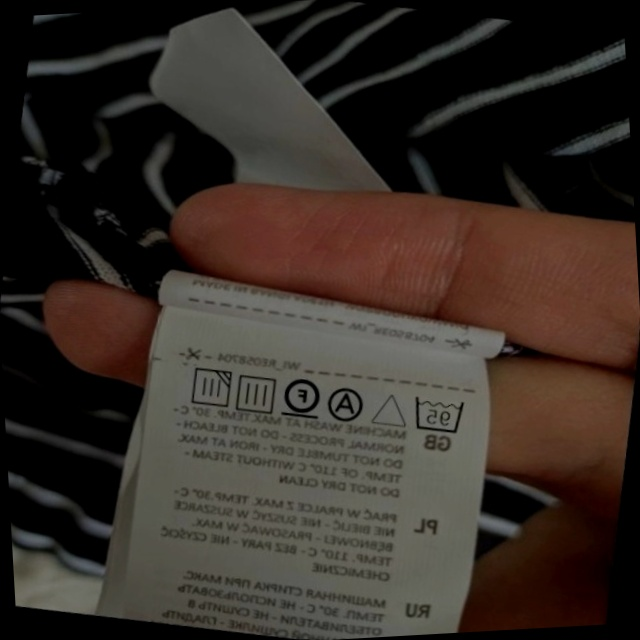95C: (406, 389, 469, 439)
bleach: (369, 385, 412, 433)
drip_dry: (230, 368, 282, 418)
drip_dry_in_shade: (182, 361, 235, 413)
dry_clean: (324, 382, 369, 426)
dry_clean_petrol_only: (278, 370, 325, 423)
